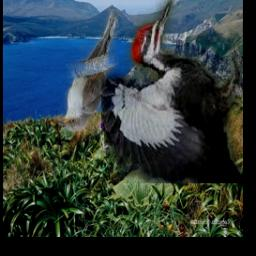Cuckoo: (57, 10, 118, 132)
Woodpecker: (101, 0, 242, 184)
